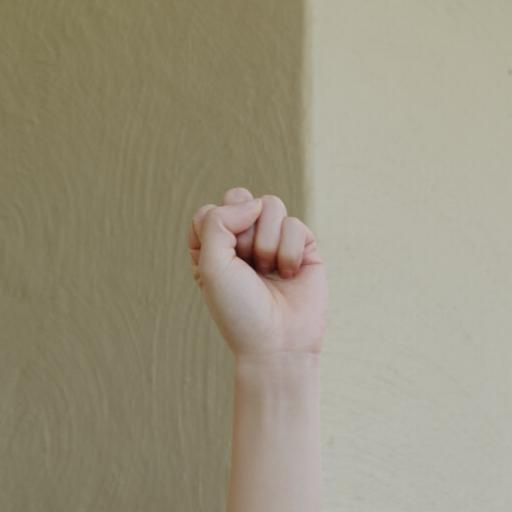S: (164, 157, 385, 463)
